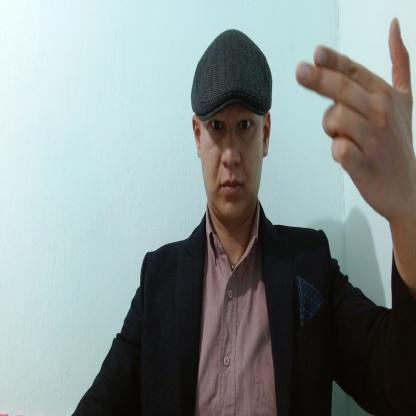H: (295, 17, 413, 218)
